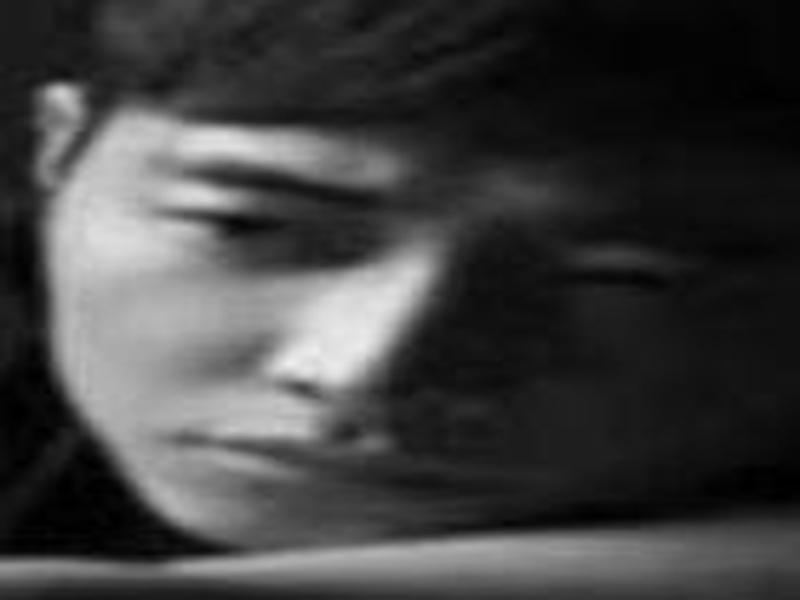without_mask: (48, 84, 751, 557)
